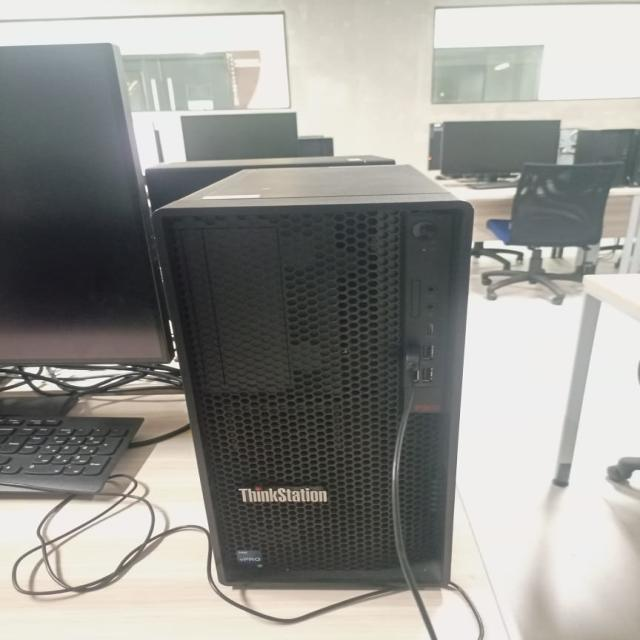monitor: (425, 118, 571, 174)
pc: (143, 171, 501, 601)
